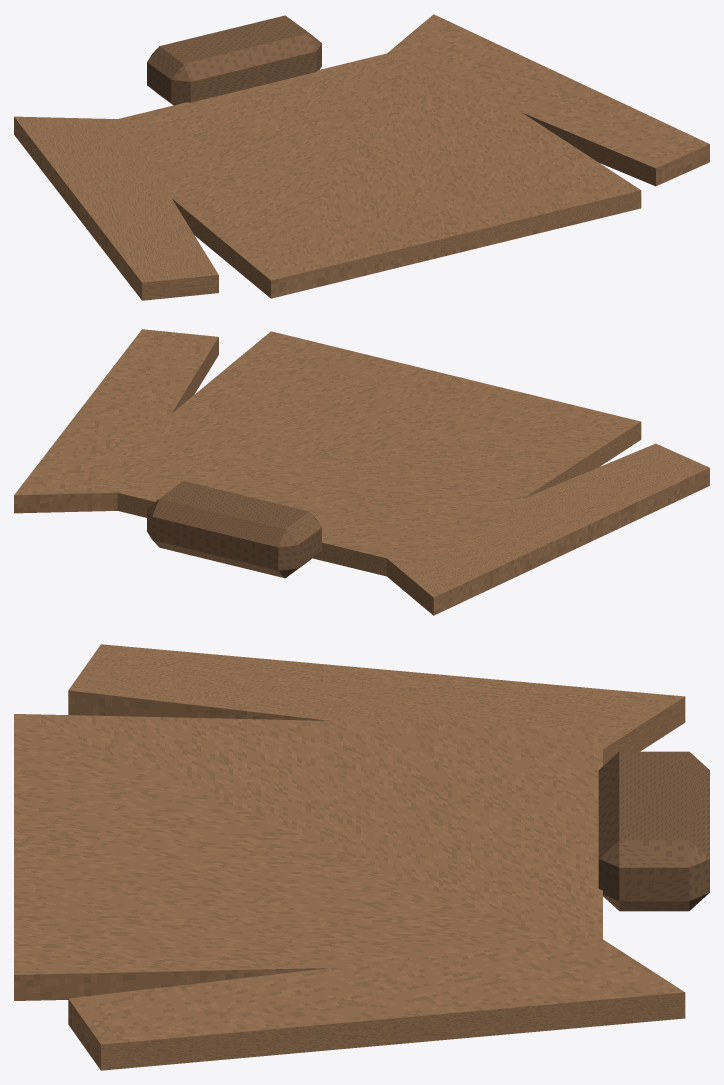
Rendered from turtleneck.glb.
3 renders of one model, top to bottom at view 1: azimuth 30°, elevation 25°; view 2: azimuth 150°, elevation 25°; view 3: azimuth 270°, elevation 25°, orthographic. The views are drawn at different scales.
Parts seen in each view (by area): view 1: block_shirt torso, block_sleeve or strap -1, block_sleeve or strap 1, block_raised rib-knit neck; view 2: block_shirt torso, block_sleeve or strap -1, block_sleeve or strap 1, block_raised rib-knit neck; view 3: block_shirt torso, block_sleeve or strap 1, block_sleeve or strap -1, block_raised rib-knit neck.
Boxes of the visible parts, <box> form: block_shirt torso: <box>86,45,641,298</box>; block_sleeve or strap -1: <box>14,116,218,300</box>; block_sleeve or strap 1: <box>385,14,709,186</box>; block_raised rib-knit neck: <box>147,15,321,105</box>; block_shirt torso: <box>86,331,641,576</box>; block_sleeve or strap -1: <box>387,443,709,615</box>; block_sleeve or strap 1: <box>14,329,218,513</box>; block_raised rib-knit neck: <box>147,481,321,578</box>; block_shirt torso: <box>14,714,602,1000</box>; block_sleeve or strap 1: <box>68,936,685,1070</box>; block_sleeve or strap -1: <box>68,644,685,765</box>; block_raised rib-knit neck: <box>598,751,709,911</box>.
Bounding box in the file's own units: 0.46 × 0.04 × 0.338.
Materials: 1 (1 with a texture image).
